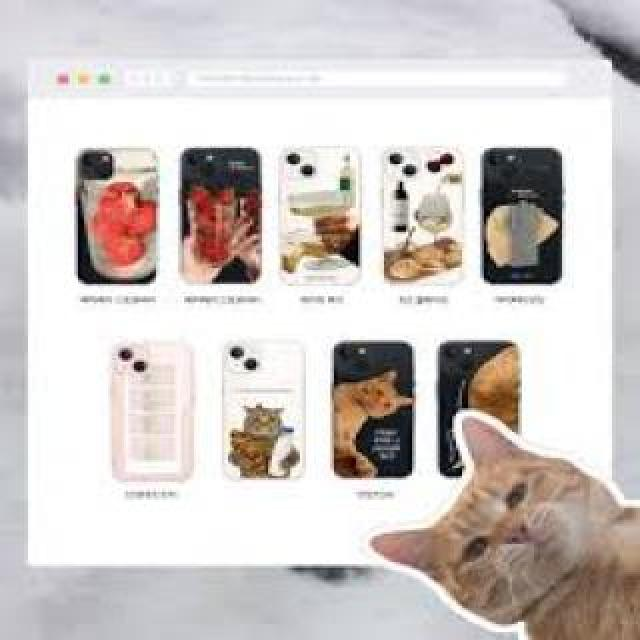smart phone: (62, 128, 166, 285), (108, 335, 198, 505), (216, 320, 316, 472), (328, 332, 425, 488), (483, 132, 567, 308), (380, 132, 465, 300), (438, 332, 525, 483), (200, 134, 267, 294), (286, 132, 366, 253)
